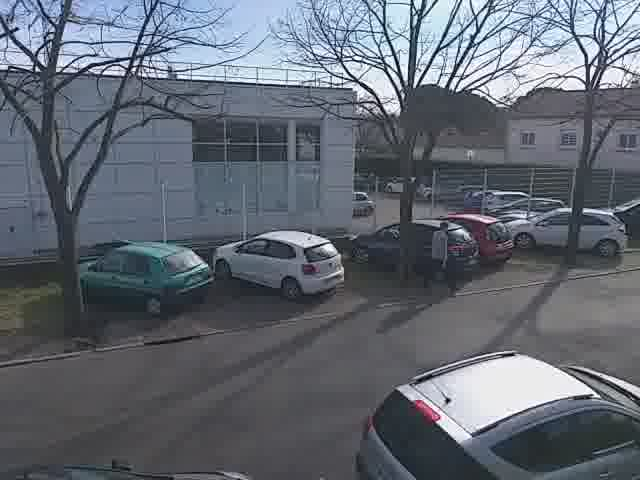persona: (421, 213, 459, 298)
